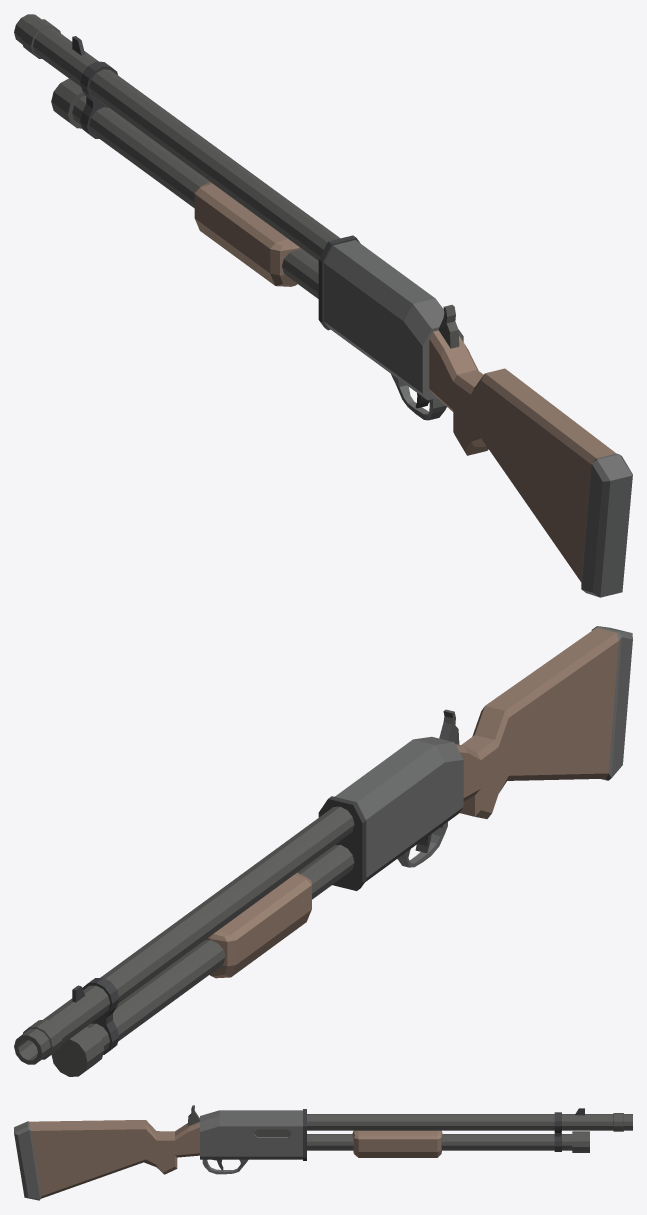
The model's file is weapon_shotgun.glb.
3 views of the same model, one above another, from view 1: azimuth 30°, elevation 25°; view 2: azimuth 150°, elevation 25°; view 3: azimuth 270°, elevation 25° (orthographic). The views are drawn at different scales.
Visible parts, largest first — view 1: Shotgun_3; view 2: Shotgun_3; view 3: Shotgun_3.
Part boxes in pixels (box(x1,y1,x2,y2)): Shotgun_3: box(14, 14, 632, 597); Shotgun_3: box(14, 626, 632, 1076); Shotgun_3: box(14, 1105, 632, 1200).
Bounding box in the file's own units: 0.0264 × 0.101 × 0.62.
